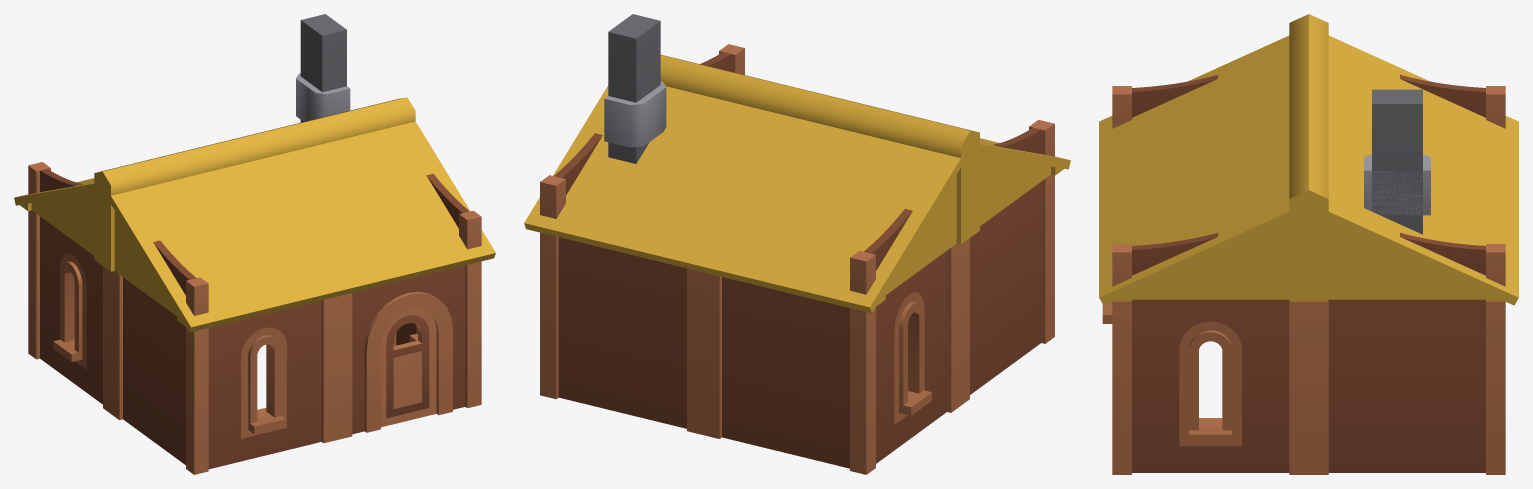
Rendered from cabane-peche-3.glb.
3 renders of one model, left to right at view 1: azimuth 30°, elevation 25°; view 2: azimuth 150°, elevation 25°; view 3: azimuth 270°, elevation 25°, orthographic. The views are drawn at different scales.
Visible parts, largest first — view 1: wall-wood-window-round, roof; view 2: wall-wood-window-round, roof; view 3: wall-wood-window-round, roof.
Part boxes in pixels (<box>): wall-wood-window-round: <box>28,14,481,474</box>; roof: <box>14,97,495,332</box>; wall-wood-window-round: <box>540,14,1054,474</box>; roof: <box>524,54,1070,313</box>; wall-wood-window-round: <box>1102,75,1505,474</box>; roof: <box>1099,14,1518,305</box>.
Bounding box in the file's own units: 6.36 × 6 × 6.4.
2 materials, 1 textured.
